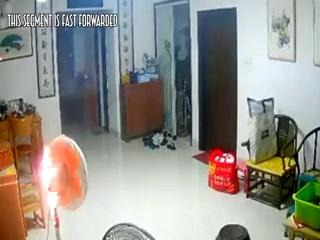Fire: (40, 140, 63, 220)
